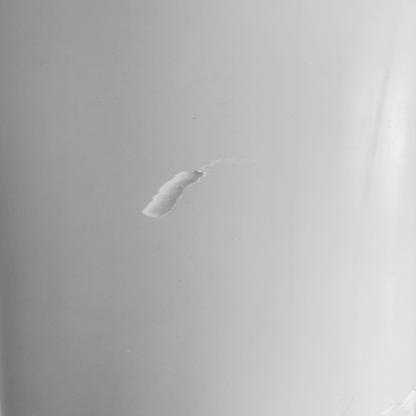sunshang: (138, 160, 214, 219)
